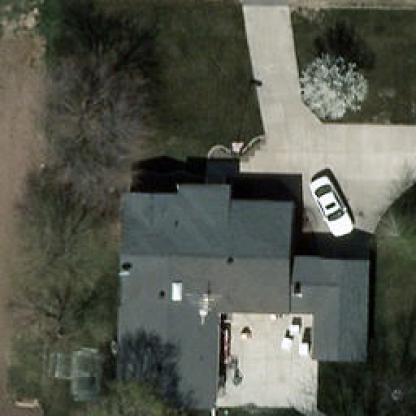car: (306, 170, 354, 235)
